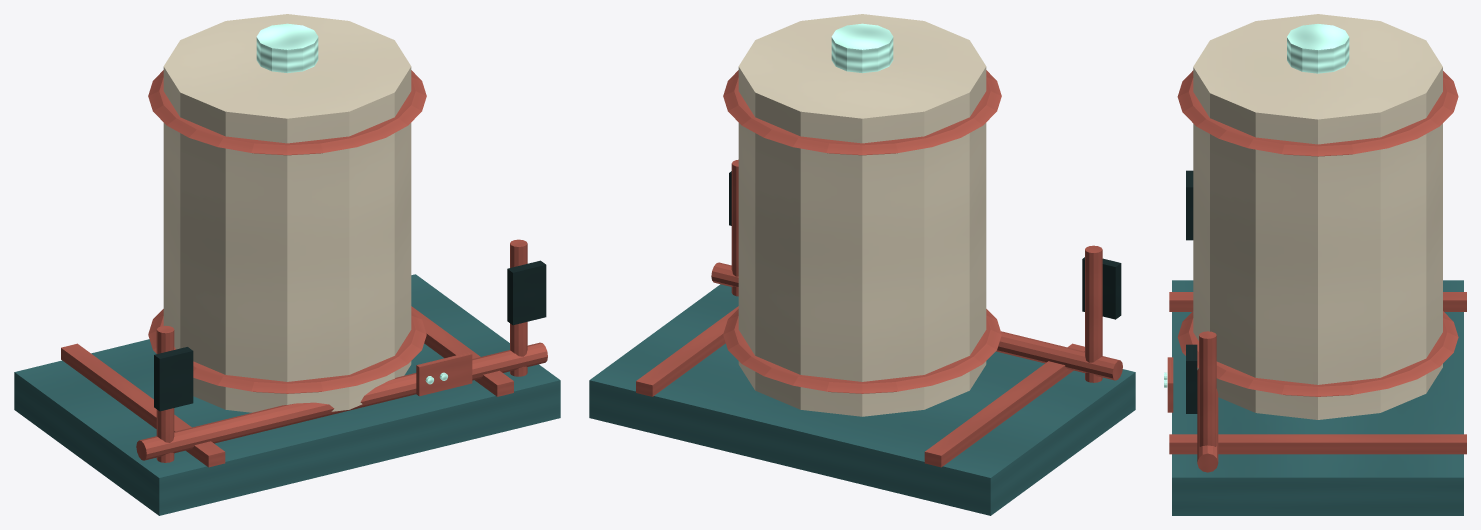
File: atlas100-s034-a02.glb
The picture shows the model from 3 angles, left to right: view 1: azimuth 30°, elevation 25°; view 2: azimuth 150°, elevation 25°; view 3: azimuth 270°, elevation 25°; orthographic projection.
Parts seen in each view (by area): view 1: atlas100-s034-a02:part-003, atlas100-s034-a02:part-000, atlas100-s034-a02:part-011, atlas100-s034-a02:part-005, atlas100-s034-a02:part-004, atlas100-s034-a02:part-001, atlas100-s034-a02:part-006, atlas100-s034-a02:part-010, atlas100-s034-a02:part-008, atlas100-s034-a02:part-002, atlas100-s034-a02:part-012, atlas100-s034-a02:part-007 (+1 smaller); view 2: atlas100-s034-a02:part-003, atlas100-s034-a02:part-000, atlas100-s034-a02:part-004, atlas100-s034-a02:part-005, atlas100-s034-a02:part-001, atlas100-s034-a02:part-011, atlas100-s034-a02:part-006, atlas100-s034-a02:part-002, atlas100-s034-a02:part-007, atlas100-s034-a02:part-008, atlas100-s034-a02:part-009; view 3: atlas100-s034-a02:part-003, atlas100-s034-a02:part-000, atlas100-s034-a02:part-002, atlas100-s034-a02:part-005, atlas100-s034-a02:part-004, atlas100-s034-a02:part-006, atlas100-s034-a02:part-009, atlas100-s034-a02:part-001, atlas100-s034-a02:part-011, atlas100-s034-a02:part-010, atlas100-s034-a02:part-008, atlas100-s034-a02:part-012.
Part boxes in pixels (x1,y1,x2,y2): atlas100-s034-a02:part-003: (163, 14, 411, 412); atlas100-s034-a02:part-000: (14, 274, 560, 515); atlas100-s034-a02:part-011: (136, 342, 547, 460); atlas100-s034-a02:part-005: (148, 70, 426, 155); atlas100-s034-a02:part-004: (148, 309, 426, 393); atlas100-s034-a02:part-001: (61, 343, 225, 467); atlas100-s034-a02:part-006: (256, 23, 318, 73); atlas100-s034-a02:part-010: (507, 260, 546, 325); atlas100-s034-a02:part-008: (154, 347, 193, 411); atlas100-s034-a02:part-002: (411, 306, 513, 396); atlas100-s034-a02:part-012: (416, 352, 472, 396); atlas100-s034-a02:part-007: (156, 325, 174, 462); atlas100-s034-a02:part-003: (738, 14, 986, 416); atlas100-s034-a02:part-000: (589, 284, 1135, 515); atlas100-s034-a02:part-004: (723, 309, 1001, 393); atlas100-s034-a02:part-005: (723, 70, 1001, 155); atlas100-s034-a02:part-001: (924, 343, 1084, 467); atlas100-s034-a02:part-011: (711, 262, 1122, 380); atlas100-s034-a02:part-006: (831, 23, 893, 73); atlas100-s034-a02:part-002: (636, 306, 738, 396); atlas100-s034-a02:part-007: (1085, 245, 1102, 382); atlas100-s034-a02:part-008: (1082, 257, 1121, 319); atlas100-s034-a02:part-009: (731, 159, 738, 296); atlas100-s034-a02:part-003: (1193, 14, 1442, 419); atlas100-s034-a02:part-000: (1172, 280, 1463, 515); atlas100-s034-a02:part-002: (1169, 434, 1466, 454); atlas100-s034-a02:part-005: (1177, 70, 1458, 156); atlas100-s034-a02:part-004: (1177, 311, 1458, 396); atlas100-s034-a02:part-006: (1287, 24, 1349, 73); atlas100-s034-a02:part-009: (1199, 331, 1216, 446); atlas100-s034-a02:part-001: (1169, 292, 1466, 311); atlas100-s034-a02:part-011: (1197, 368, 1218, 472); atlas100-s034-a02:part-010: (1186, 344, 1197, 413); atlas100-s034-a02:part-008: (1186, 170, 1193, 240); atlas100-s034-a02:part-012: (1167, 357, 1173, 412).
Bounding box in the file's own units: 2.88 × 2.59 × 1.87.
5 materials, 5 textured.
